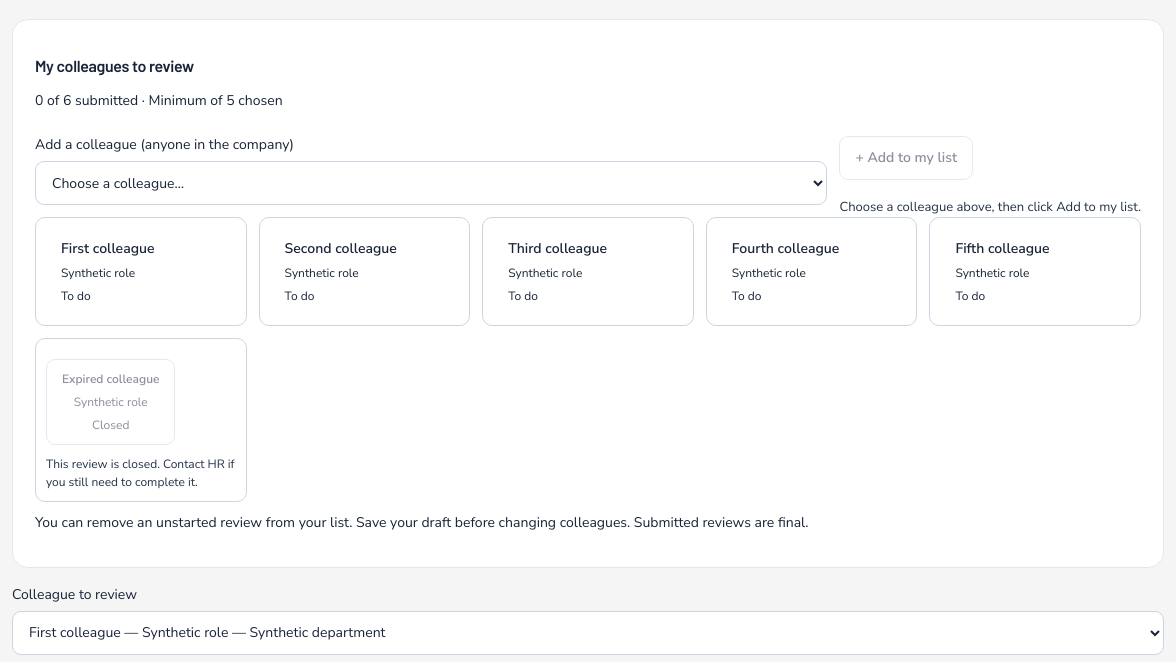
Scenario: changing colleague clears unsaved ratings to prevent accidental attribution
Later steps or results of the test are not shown.
(page scrolled)
Select "First colleague — Synthetic role — Synthetic department" in the dropdown named "Colleague to review" at (588, 633), box top-left (12, 611), bottom-right (1164, 655)
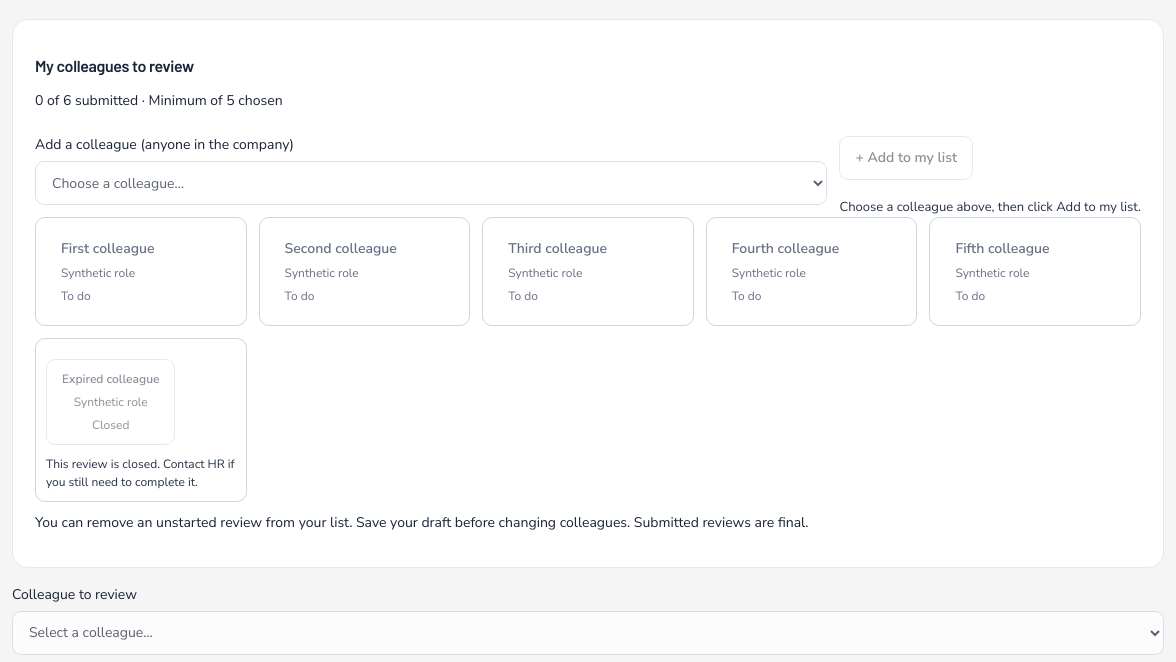
Select "Select a colleague…" in the dropdown named "Colleague to review" at (588, 633), box top-left (12, 611), bottom-right (1164, 655)
(page scrolled)
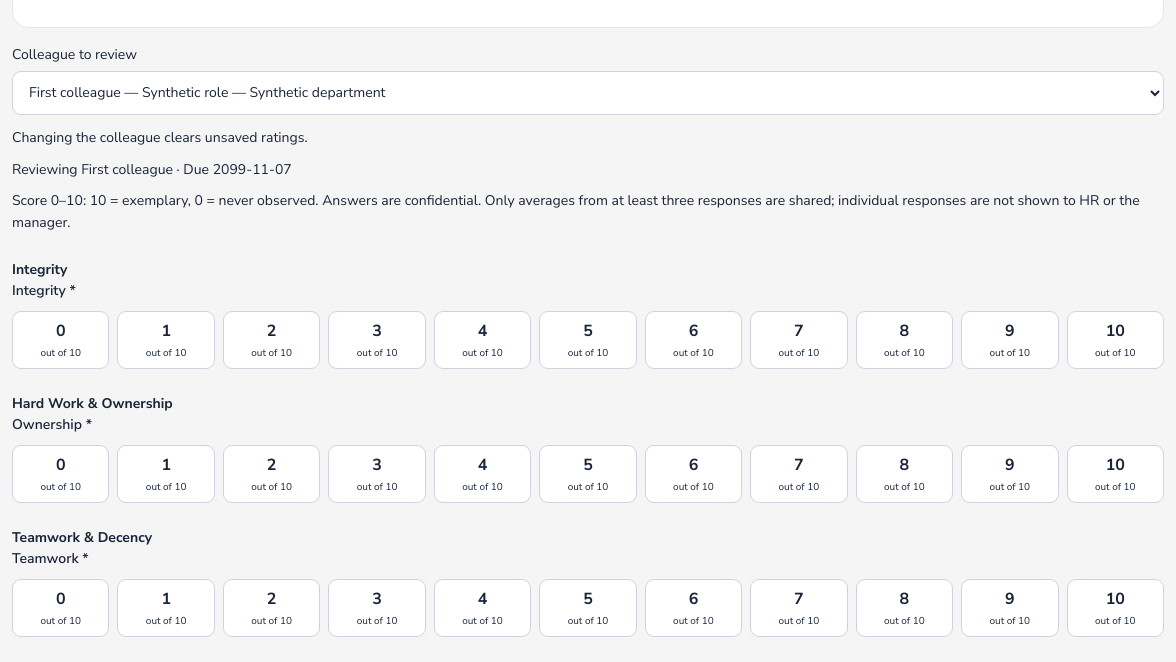
Click the radio button with aria-label "Integrity: 9 out of 10".
click(1010, 340)  # box top-left (961, 311), bottom-right (1059, 369)
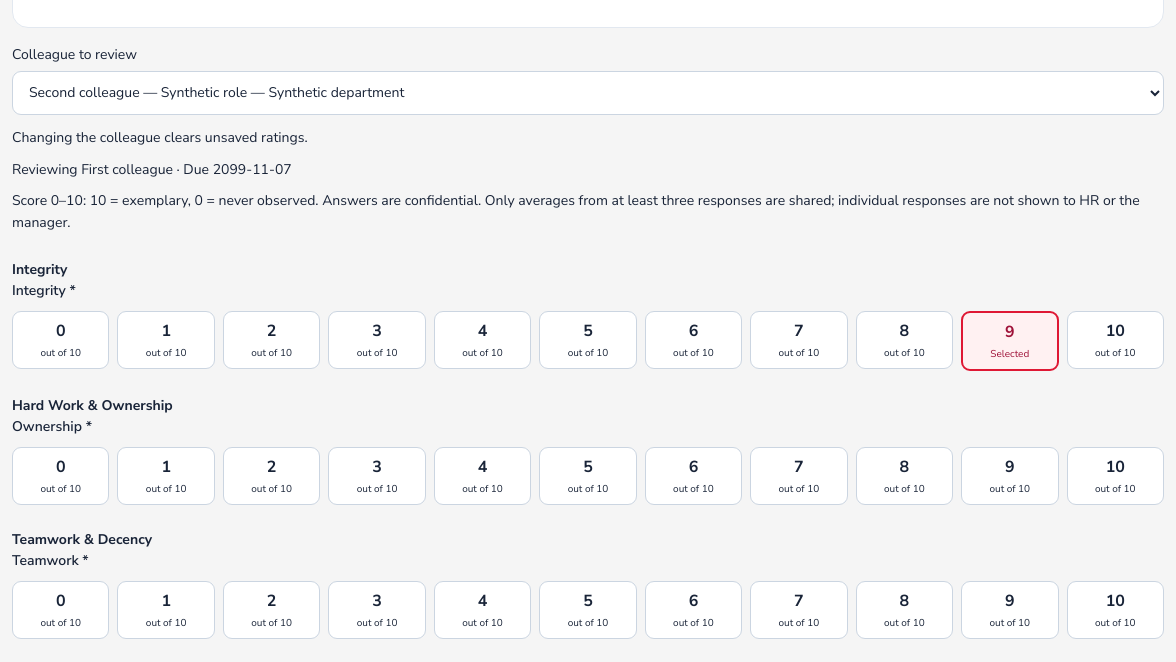
Check: the radio button with aria-label "Integrity: 9 out of 10" is checked, box top-left (961, 311), bottom-right (1059, 371)
